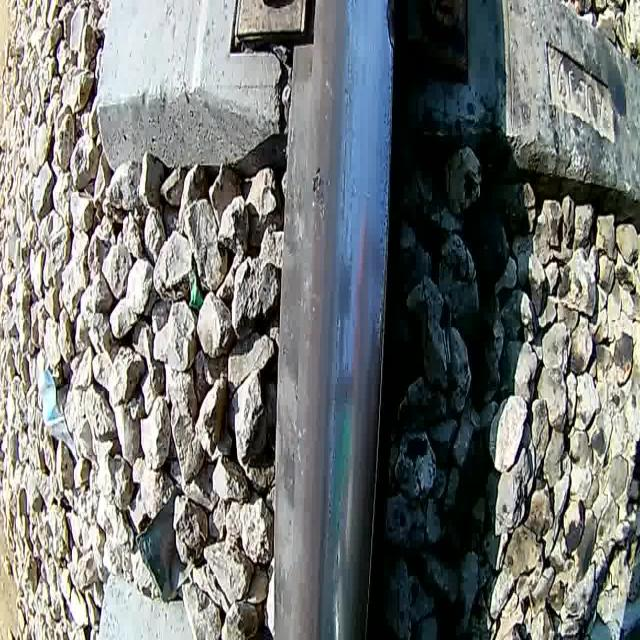Grooves: (337, 0, 355, 273), (325, 307, 343, 535)
Shellings: (372, 63, 394, 392)
Spallings: (310, 162, 332, 225)
Squats: (309, 515, 356, 640), (332, 246, 359, 324), (332, 358, 358, 419), (380, 0, 402, 62)
